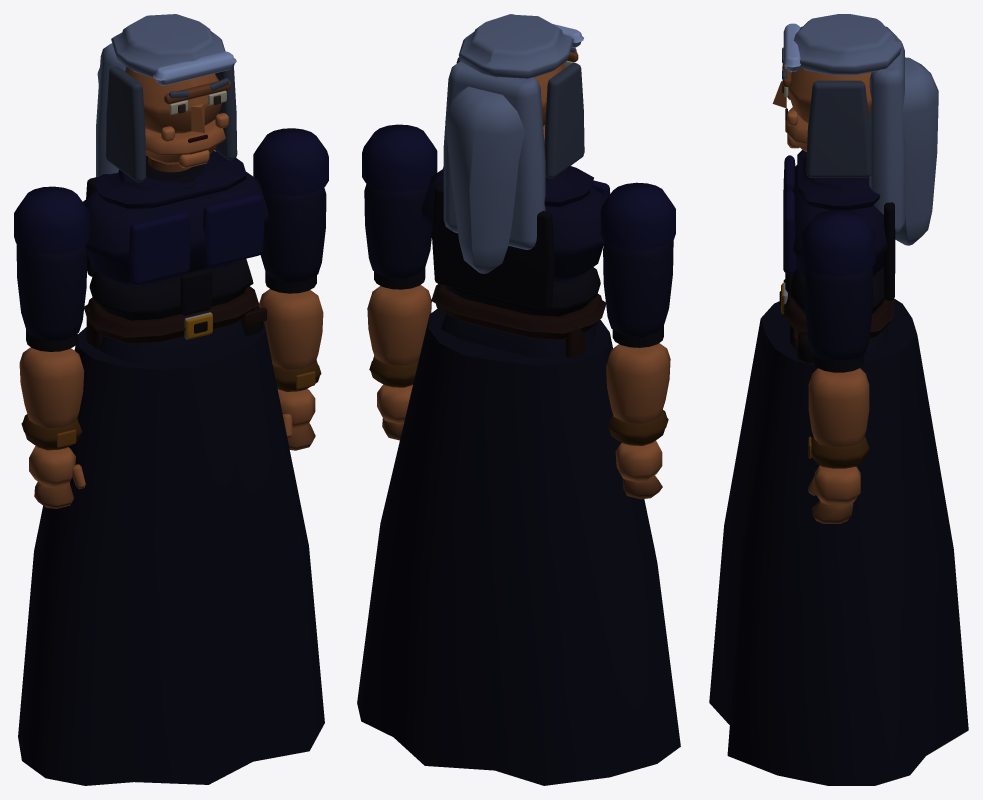
The model's file is InvocadoraEcosBase.fbx.
The picture shows the model from 3 angles, left to right: view 1: azimuth 30°, elevation 25°; view 2: azimuth 150°, elevation 25°; view 3: azimuth 270°, elevation 25°; orthographic projection.
Parts seen in each view (by area): view 1: Body, Head, ArmR, ArmL; view 2: Body, Head, ArmR, ArmL; view 3: Body, Head, ArmL.
Part boxes in pixels (x1=…): Body: x1=18, y1=151, x2=324, y2=785; Head: x1=96, y1=14, x2=237, y2=182; ArmR: x1=14, y1=186, x2=89, y2=508; ArmL: x1=253, y1=128, x2=328, y2=450; Body: x1=357, y1=166, x2=680, y2=785; Head: x1=443, y1=14, x2=584, y2=273; ArmR: x1=600, y1=182, x2=675, y2=499; ArmL: x1=362, y1=124, x2=437, y2=440; Body: x1=709, y1=150, x2=968, y2=785; Head: x1=772, y1=14, x2=938, y2=245; ArmL: x1=802, y1=209, x2=875, y2=523.
Size of the model in its own units: 0.7867 by 1.74 by 0.5907.
